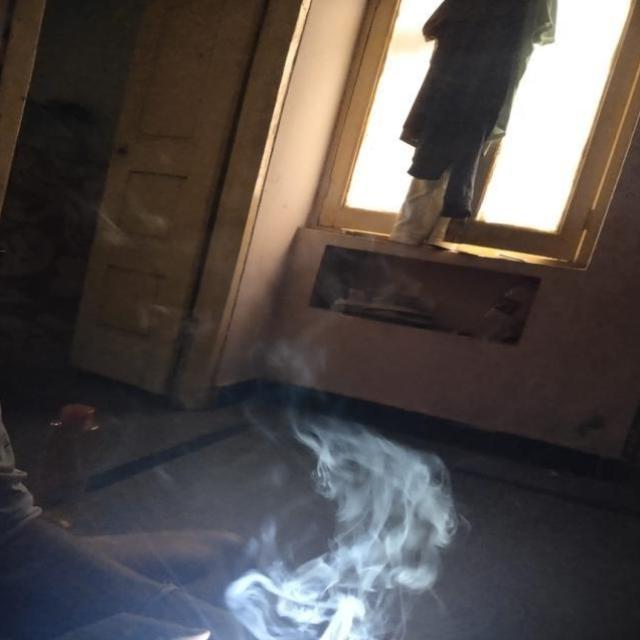fire: (252, 410, 464, 600)
